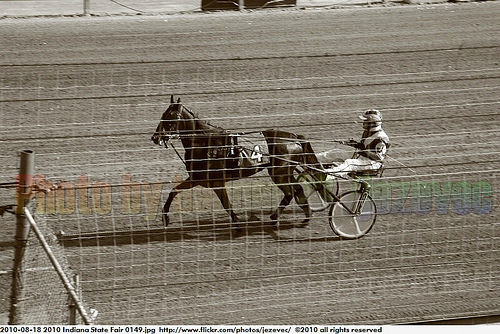horse: (151, 96, 326, 233)
